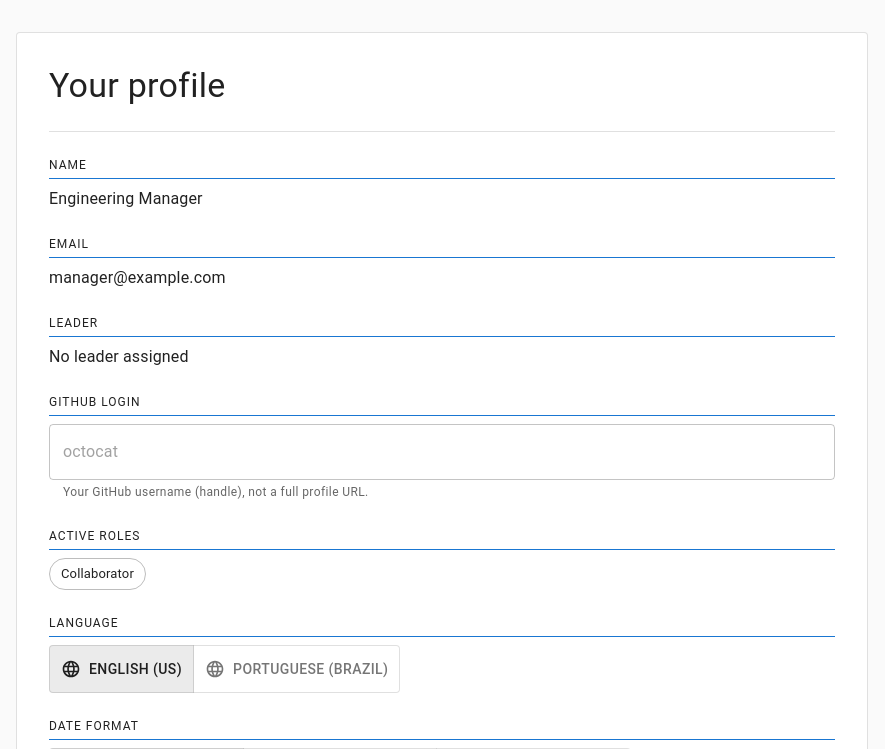
US2 profile page github login › shows validation error from api
The image size is (885, 749).
In the field labelled "GitHub login": (442, 452) [49,424,835,480], type "bad handle!"
(page scrolled)
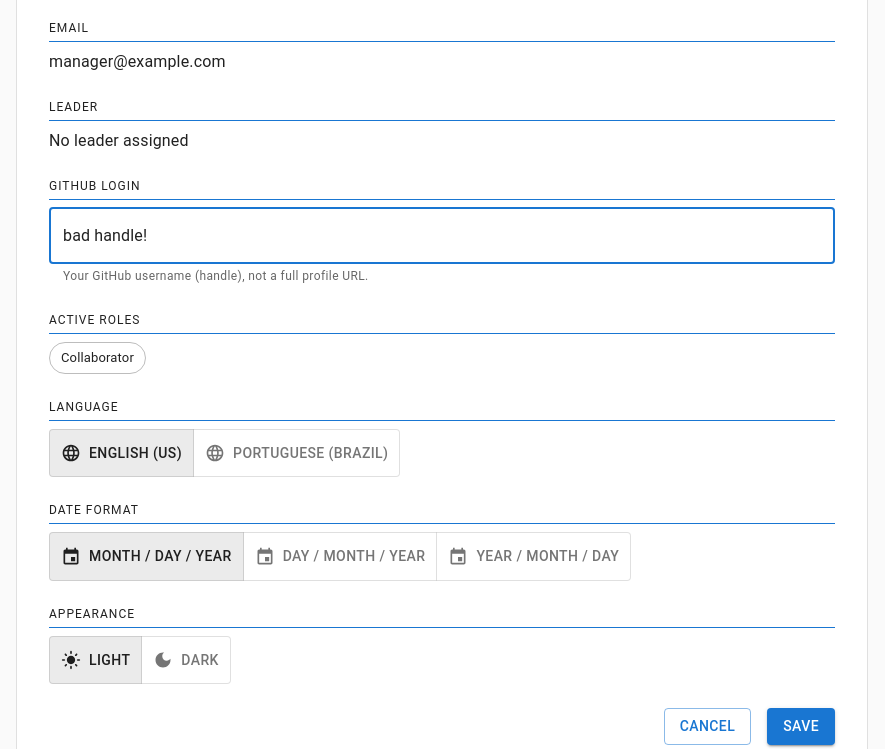
Click the button "Save": (801, 727) [767,708,835,745]
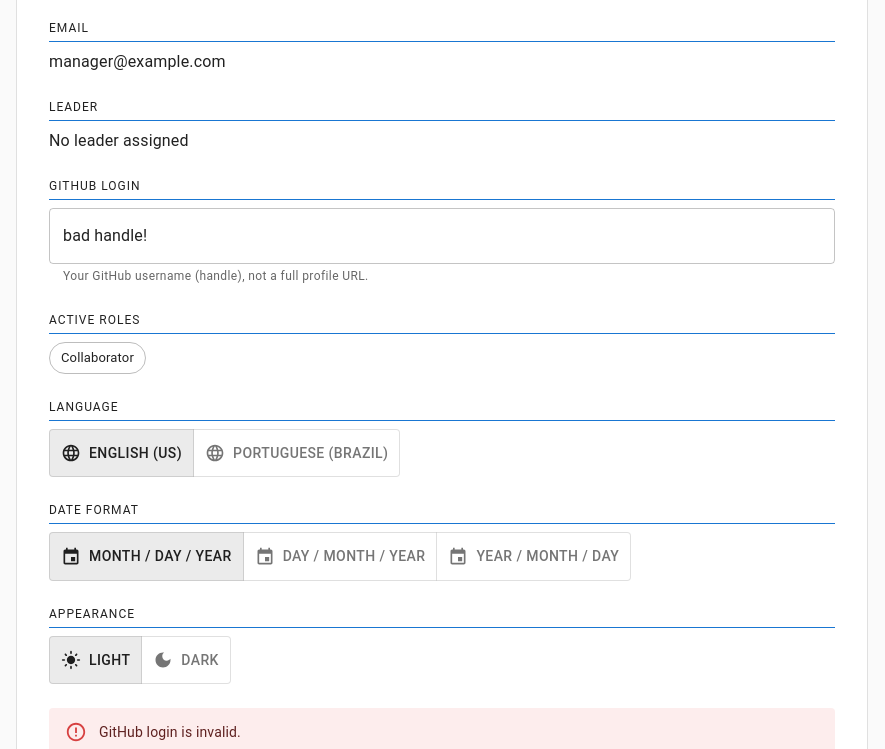
Now the message reads "GitHub login is invalid.", box [99,724,241,740]
